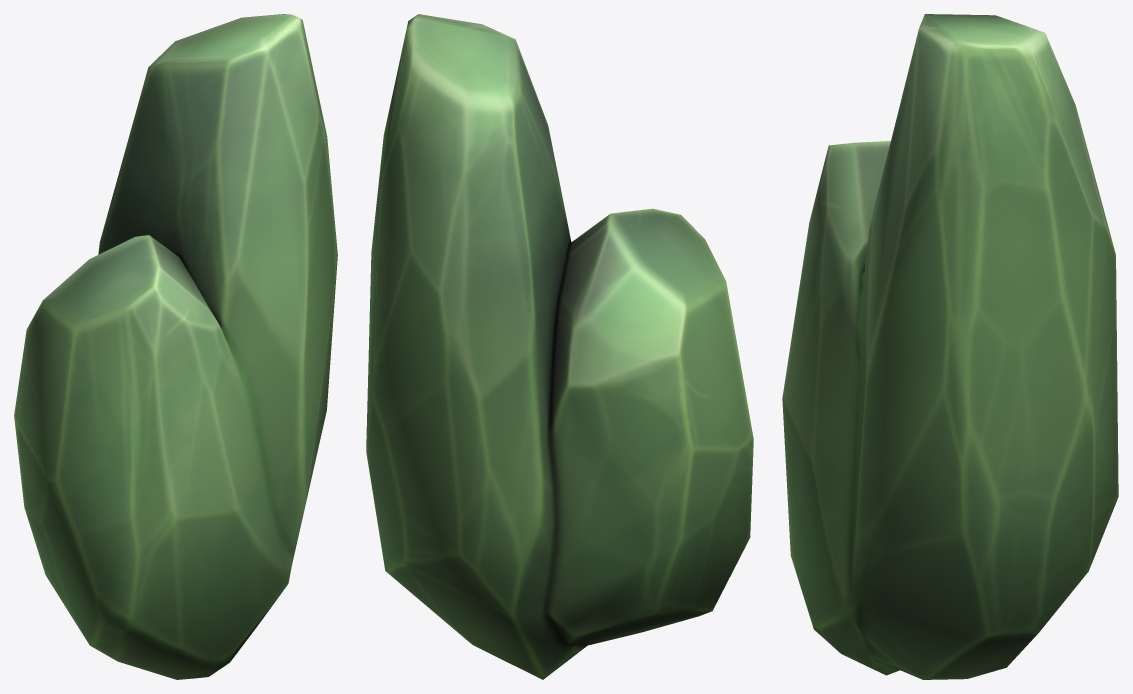
File: SM_Gem_Jade_003.fbx
3 renders of one model, left to right at view 1: azimuth 30°, elevation 25°; view 2: azimuth 150°, elevation 25°; view 3: azimuth 270°, elevation 25°, orthographic. The views are drawn at different scales.
Visible parts, largest first — view 1: SM_Gem_Jade_003; view 2: SM_Gem_Jade_003; view 3: SM_Gem_Jade_003.
Part boxes in pixels (bbox=[...]): SM_Gem_Jade_003: bbox=[14, 14, 337, 679]; SM_Gem_Jade_003: bbox=[366, 14, 753, 679]; SM_Gem_Jade_003: bbox=[782, 14, 1118, 679].
Size of the model in its own units: 33.89 by 59.86 by 26.32.
